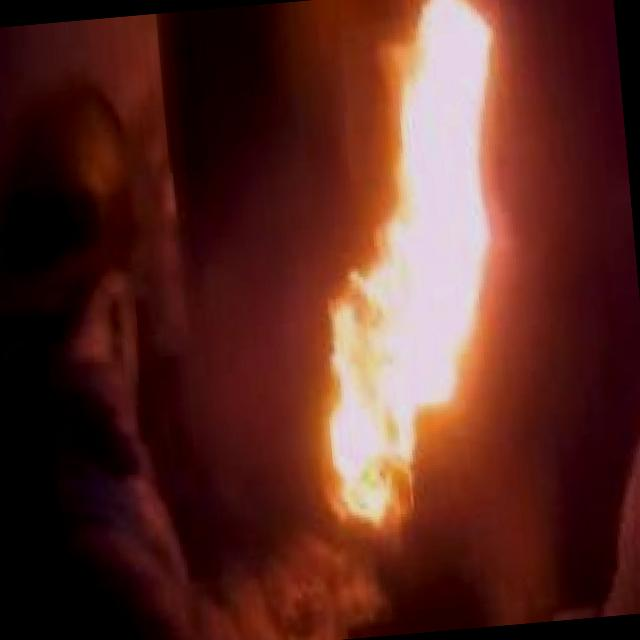fire: (287, 0, 527, 535)
